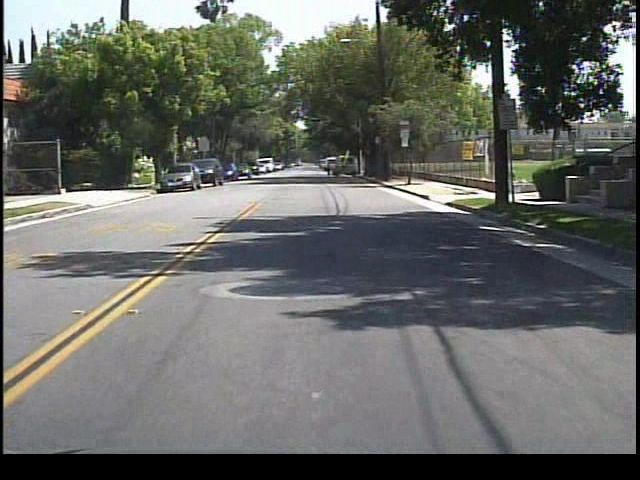person: (321, 156, 336, 182)
